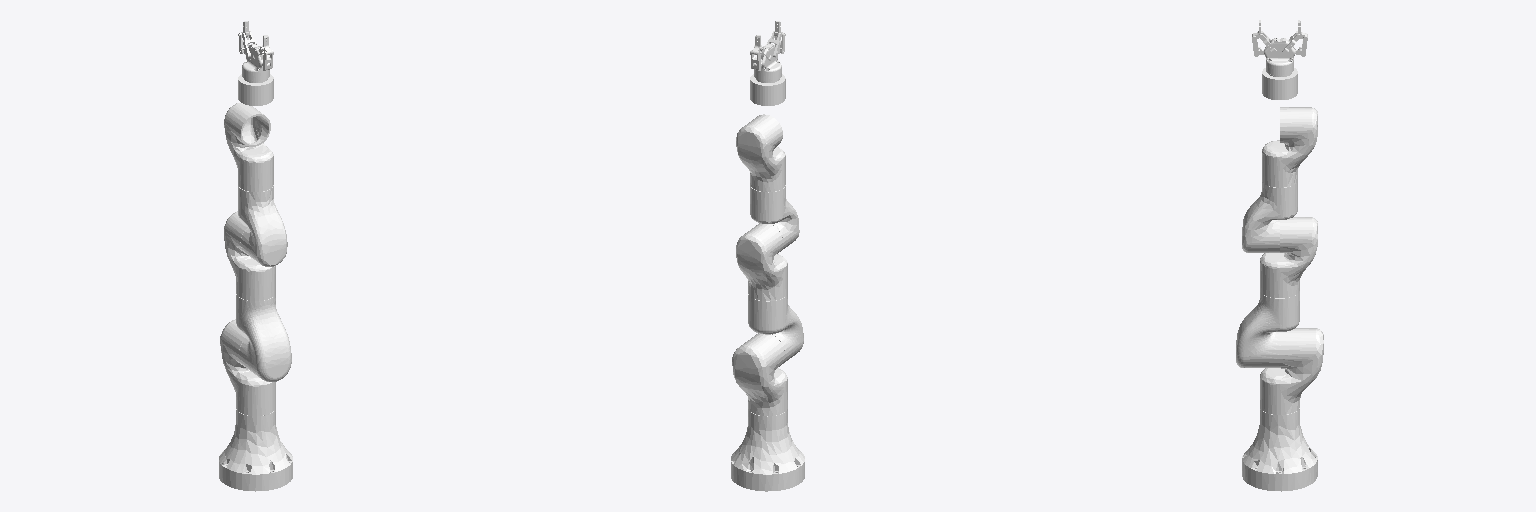
URDF robot description (mantra):
<?xml version="1.0" encoding="utf-8"?>
<!-- This URDF was automatically created by SolidWorks to URDF Exporter! Originally created by [author] ([email redacted])
     Commit Version: 1.5.0-0-g9aa0fdb  Build Version: 1.5.7004.21443
     For more information, please see http://wiki.ros.org/sw_urdf_exporter -->
<robot
  name="mantra">
  <link
    name="base_link">
    <inertial>
      <origin
        xyz="5.69641035035207E-08 -7.52429850157642E-09 0.0534781808387783"
        rpy="0 0 0" />
      <mass
        value="2.12515524577406" />
      <inertia
        ixx="0.00919560446596015"
        ixy="2.13793974775628E-09"
        ixz="-1.75777317025923E-09"
        iyy="0.00919559841583678"
        iyz="3.46157313095082E-10"
        izz="0.011098052703463" />
    </inertial>
    <visual>
      <origin
        xyz="0 0 0"
        rpy="0 0 0" />
      <geometry>
        <mesh
          filename="package://mantra_description/meshes/base_link.STL" />
      </geometry>
      <material
        name="">
        <color
          rgba="1 1 1 1" />
      </material>
    </visual>
    <collision>
      <origin
        xyz="0 0 0"
        rpy="0 0 0" />
      <geometry>
        <mesh
          filename="package://mantra_description/meshes/base_link.STL" />
      </geometry>
    </collision>
  </link>
  <link
    name="link1">
    <inertial>
      <origin
        xyz="3.33697354947896E-06 0.0376725326992402 0.113954575937932"
        rpy="0 0 0" />
      <mass
        value="0.449846417611502" />
      <inertia
        ixx="0.00281542194513947"
        ixy="-2.97928363529748E-08"
        ixz="2.31552459199413E-09"
        iyy="0.00237879024815951"
        iyz="-0.000689611051918419"
        izz="0.00161666621542504" />
    </inertial>
    <visual>
      <origin
        xyz="0 0 0"
        rpy="0 0 0" />
      <geometry>
        <mesh
          filename="package://mantra_description/meshes/link1.STL" />
      </geometry>
      <material
        name="">
        <color
          rgba="1 1 1 1" />
      </material>
    </visual>
    <collision>
      <origin
        xyz="0 0 0"
        rpy="0 0 0" />
      <geometry>
        <mesh
          filename="package://mantra_description/meshes/link1.STL" />
      </geometry>
    </collision>
  </link>
  <joint
    name="joint1"
    type="revolute">
    <origin
      xyz="0 0 0.2005"
      rpy="0 0 0" />
    <parent
      link="base_link" />
    <child
      link="link1" />
    <axis
      xyz="0 0 -1" />
    <limit
      lower="-1.5708"
      upper="1.5708"
      effort="100"
      velocity="1" />
  </joint>
  <link
    name="link2">
    <inertial>
      <origin
        xyz="3.33697354946443E-06 0.0560454240620686 0.0376725326992408"
        rpy="0 0 0" />
      <mass
        value="0.449846417611509" />
      <inertia
        ixx="0.00281542194513949"
        ixy="-2.31552459225296E-09"
        ixz="-2.97928363555503E-08"
        iyy="0.00161666621542506"
        iyz="0.000689611051918419"
        izz="0.00237879024815952" />
    </inertial>
    <visual>
      <origin
        xyz="0 0 0"
        rpy="0 0 0" />
      <geometry>
        <mesh
          filename="package://mantra_description/meshes/link2.STL" />
      </geometry>
      <material
        name="">
        <color
          rgba="1 1 1 1" />
      </material>
    </visual>
    <collision>
      <origin
        xyz="0 0 0"
        rpy="0 0 0" />
      <geometry>
        <mesh
          filename="package://mantra_description/meshes/link2.STL" />
      </geometry>
    </collision>
  </link>
  <joint
    name="joint2"
    type="revolute">
    <origin
      xyz="0 0 0.17"
      rpy="1.5707963267949 0 0" />
    <parent
      link="link1" />
    <child
      link="link2" />
    <axis
      xyz="0 0 -1" />
    <limit
      lower="-1.85"
      upper="1.85"
      effort="100"
      velocity="1" />
  </joint>
  <link
    name="link3">
    <inertial>
      <origin
        xyz="-7.12565212158657E-06 0.0300289146661516 0.103545651609833"
        rpy="0 0 0" />
      <mass
        value="0.392582340089193" />
      <inertia
        ixx="0.0020755242879527"
        ixy="1.39339603463997E-08"
        ixz="-2.85481111340335E-08"
        iyy="0.00178702026485436"
        iyz="-0.000503155834932375"
        izz="0.00121405044233485" />
    </inertial>
    <visual>
      <origin
        xyz="0 0 0"
        rpy="0 0 0" />
      <geometry>
        <mesh
          filename="package://mantra_description/meshes/link3.STL" />
      </geometry>
      <material
        name="">
        <color
          rgba="1 1 1 1" />
      </material>
    </visual>
    <collision>
      <origin
        xyz="0 0 0"
        rpy="0 0 0" />
      <geometry>
        <mesh
          filename="package://mantra_description/meshes/link3.STL" />
      </geometry>
    </collision>
  </link>
  <joint
    name="joint3"
    type="revolute">
    <origin
      xyz="0 0.17 0"
      rpy="-1.5707963267949 0 0" />
    <parent
      link="link2" />
    <child
      link="link3" />
    <axis
      xyz="0 0 -1" />
    <limit
      lower="-1.5708"
      upper="1.5708"
      effort="100"
      velocity="1" />
  </joint>
  <link
    name="link4">
    <inertial>
      <origin
        xyz="9.50435857535385E-07 0.0539665921441028 0.0317108566437211"
        rpy="0 0 0" />
      <mass
        value="0.367226253241491" />
      <inertia
        ixx="0.00189945127986856"
        ixy="1.10761786474966E-08"
        ixz="-3.7570793907639E-09"
        iyy="0.00102605162314097"
        iyz="0.000467411288512599"
        izz="0.00163165412446067" />
    </inertial>
    <visual>
      <origin
        xyz="0 0 0"
        rpy="0 0 0" />
      <geometry>
        <mesh
          filename="package://mantra_description/meshes/link4.STL" />
      </geometry>
      <material
        name="">
        <color
          rgba="1 1 1 1" />
      </material>
    </visual>
    <collision>
      <origin
        xyz="0 0 0"
        rpy="0 0 0" />
      <geometry>
        <mesh
          filename="package://mantra_description/meshes/link4.STL" />
      </geometry>
    </collision>
  </link>
  <joint
    name="joint4"
    type="revolute">
    <origin
      xyz="0 0 0.16"
      rpy="1.5707963267949 0 0" />
    <parent
      link="link3" />
    <child
      link="link4" />
    <axis
      xyz="0 0 -1" />
    <limit
      lower="-1.85"
      upper="1.85"
      effort="100"
      velocity="1" />
  </joint>
  <link
    name="link5">
    <inertial>
      <origin
        xyz="9.51012096366642E-07 0.0317108567627314 0.106033406535695"
        rpy="0 0 0" />
      <mass
        value="0.36722625401674" />
      <inertia
        ixx="0.00189945125870264"
        ixy="-3.75974500953554E-09"
        ixz="-1.10613008671998E-08"
        iyy="0.00163165410820963"
        iyz="-0.000467411240126133"
        izz="0.00102605163568241" />
    </inertial>
    <visual>
      <origin
        xyz="0 0 0"
        rpy="0 0 0" />
      <geometry>
        <mesh
          filename="package://mantra_description/meshes/link5.STL" />
      </geometry>
      <material
        name="">
        <color
          rgba="1 1 1 1" />
      </material>
    </visual>
    <collision>
      <origin
        xyz="0 0 0"
        rpy="0 0 0" />
      <geometry>
        <mesh
          filename="package://mantra_description/meshes/link5.STL" />
      </geometry>
    </collision>
  </link>
  <joint
    name="joint5"
    type="revolute">
    <origin
      xyz="0 0.16 0"
      rpy="-1.5707963267949 0 0" />
    <parent
      link="link4" />
    <child
      link="link5" />
    <axis
      xyz="0 0 -1" />
    <limit
      lower="-1.5708"
      upper="1.5708"
      effort="100"
      velocity="1" />
  </joint>
  <link
    name="link6">
    <inertial>
      <origin
        xyz="9.50435834836122E-07 0.0539665921440784 0.0317108566434664"
        rpy="0 0 0" />
      <mass
        value="0.367226253239117" />
      <inertia
        ixx="0.00189945137374859"
        ixy="1.10879827351801E-08"
        ixz="-3.81500844085306E-09"
        iyy="0.00102605167941246"
        iyz="0.000467411315869438"
        izz="0.00163165420801843" />
    </inertial>
    <visual>
      <origin
        xyz="0 0 0"
        rpy="0 0 0" />
      <geometry>
        <mesh
          filename="package://mantra_description/meshes/link6.STL" />
      </geometry>
      <material
        name="">
        <color
          rgba="1 1 1 1" />
      </material>
    </visual>
    <collision>
      <origin
        xyz="0 0 0"
        rpy="0 0 0" />
      <geometry>
        <mesh
          filename="package://mantra_description/meshes/link6.STL" />
      </geometry>
    </collision>
  </link>
  <joint
    name="joint6"
    type="revolute">
    <origin
      xyz="0 0 0.16"
      rpy="1.5707963267949 0 0" />
    <parent
      link="link5" />
    <child
      link="link6" />
    <axis
      xyz="0 0 -1" />
    <limit
      lower="-1.85"
      upper="1.85"
      effort="100"
      velocity="1" />
  </joint>
  <link
    name="link7">
    <inertial>
      <origin
        xyz="7.91773891106126E-17 -1.10416395174545E-05 0.0404968347411467"
        rpy="0 0 0" />
      <mass
        value="0.14043817532843" />
      <inertia
        ixx="0.000166560052257127"
        ixy="3.72741884645633E-20"
        ixz="-8.7076688740022E-20"
        iyy="0.000166602712740968"
        iyz="2.78725555163461E-08"
        izz="0.000232492320290339" />
    </inertial>
    <visual>
      <origin
        xyz="0 0 0"
        rpy="0 0 0" />
      <geometry>
        <mesh
          filename="package://mantra_description/meshes/link7.STL" />
      </geometry>
      <material
        name="">
        <color
          rgba="1 1 1 1" />
      </material>
    </visual>
    <collision>
      <origin
        xyz="0 0 0"
        rpy="0 0 0" />
      <geometry>
        <mesh
          filename="package://mantra_description/meshes/link7.STL" />
      </geometry>
    </collision>
  </link>
  <joint
    name="joint7"
    type="revolute">
    <origin
      xyz="0 0.16 0"
      rpy="-1.5707963267949 0 0" />
    <parent
      link="link6" />
    <child
      link="link7" />
    <axis
      xyz="0 0 -1" />
    <limit
      lower="-1.5708"
      upper="1.5708"
      effort="100"
      velocity="1" />
  </joint>
  <link
    name="gripper">
    <inertial>
      <origin
        xyz="5.62206240665474E-07 3.00957007919871E-05 -0.838686124360706"
        rpy="0 0 0" />
      <mass
        value="4.65959936378476" />
      <inertia
        ixx="0.733167737230715"
        ixy="5.4495923074898E-08"
        ixz="-1.43570428467062E-06"
        iyy="0.72846366486061"
        iyz="0.00112567728047823"
        izz="0.0215950330422125" />
    </inertial>
    <visual>
      <origin
        xyz="0 0 0"
        rpy="0 0 0" />
      <geometry>
        <mesh
          filename="package://mantra_description/meshes/robotiq_gripper.STL" />
      </geometry>
      <material
        name="">
        <color
          rgba="0.792156862745098 0.819607843137255 0.933333333333333 1" />
      </material>
    </visual>
    <collision>
      <origin
        xyz="0 0 0"
        rpy="0 0 0" />
      <geometry>
        <mesh
          filename="package://mantra_description/meshes/robotiq_gripper.STL" />
      </geometry>
    </collision>
  </link>
  <joint
    name="gripper"
    type="fixed">
    <origin
      xyz="0 0 0.0655"
      rpy="0 0 0" />
    <parent
      link="link7" />
    <child
      link="gripper" />
    <axis
      xyz="0 0 0" />
    <limit
      lower="-1.85"
      upper="1.85"
      effort="100"
      velocity="1" />
  </joint>
</robot>

--- What the picture shows (computed from the rendered views, not written in the file) ---
3 views of the same robot in one strip: view 1: azimuth 30°, elevation 25°; view 2: azimuth 150°, elevation 25°; view 3: azimuth 270°, elevation 25° (orthographic).
Model mantra with 9 links and 8 joints (7 revolute, 1 fixed), rooted at base_link, posed all joints at 0.
Links seen in each view (by area): view 1: base_link, link2, link5, link4, link1, link3, link7; view 2: base_link, link1, link3, link5, link7, link2, link4; view 3: base_link, link1, link2, link3, link5, link4, link7.
Boxes of the visible links, x1=… form: base_link: x1=219, y1=409, x2=292, y2=491; link2: x1=236, y1=294, x2=291, y2=381; link5: x1=224, y1=103, x2=273, y2=191; link4: x1=238, y1=185, x2=287, y2=266; link1: x1=220, y1=319, x2=275, y2=415; link3: x1=224, y1=211, x2=275, y2=300; link7: x1=238, y1=21, x2=273, y2=105; base_link: x1=731, y1=409, x2=804, y2=491; link1: x1=732, y1=333, x2=787, y2=415; link3: x1=736, y1=223, x2=787, y2=300; link5: x1=736, y1=114, x2=785, y2=191; link7: x1=750, y1=21, x2=785, y2=105; link2: x1=748, y1=294, x2=803, y2=363; link4: x1=750, y1=185, x2=799, y2=251; base_link: x1=1242, y1=408, x2=1317, y2=491; link1: x1=1260, y1=328, x2=1323, y2=414; link2: x1=1236, y1=292, x2=1299, y2=367; link3: x1=1260, y1=217, x2=1317, y2=297; link5: x1=1262, y1=107, x2=1317, y2=187; link4: x1=1242, y1=182, x2=1297, y2=252; link7: x1=1252, y1=20, x2=1307, y2=99.
Size in the robot's own frame: 0.1998 by 0.231 by 1.32 metres.
7 mesh visuals loaded from 9 distinct referenced files (7 binary STL); not drawn: 2 (reference not matched to a file when rendering).